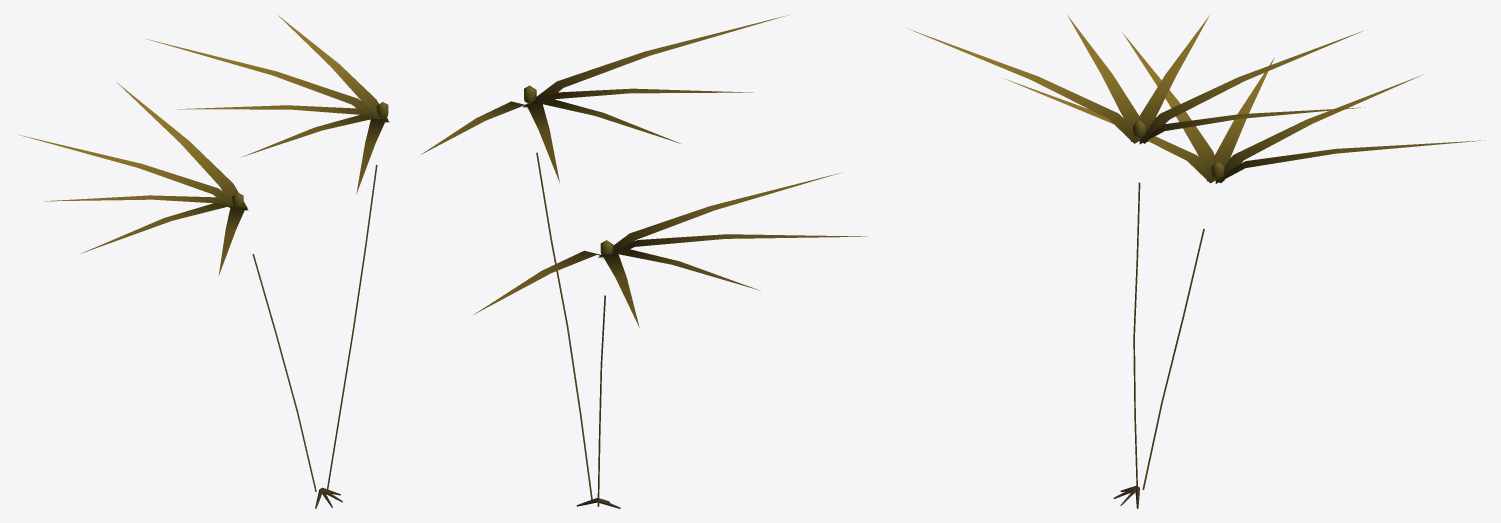
File: kelp-bull-a.lod1.glb
3 renders of one model, left to right at view 1: azimuth 30°, elevation 25°; view 2: azimuth 150°, elevation 25°; view 3: azimuth 270°, elevation 25°, orthographic. The views are drawn at different scales.
Visible parts, largest first — view 1: kelp-bull-a.lod1; view 2: kelp-bull-a.lod1; view 3: kelp-bull-a.lod1.
Part boxes in pixels (x1=…): kelp-bull-a.lod1: x1=18, y1=15, x2=389, y2=508; kelp-bull-a.lod1: x1=421, y1=14, x2=867, y2=508; kelp-bull-a.lod1: x1=907, y1=15, x2=1484, y2=508.
Bounding box in the file's own units: 3.02 × 3.63 × 4.42.
